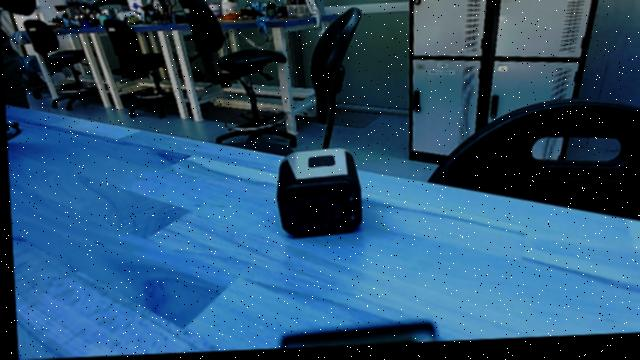adapter: (272, 150, 365, 249)
